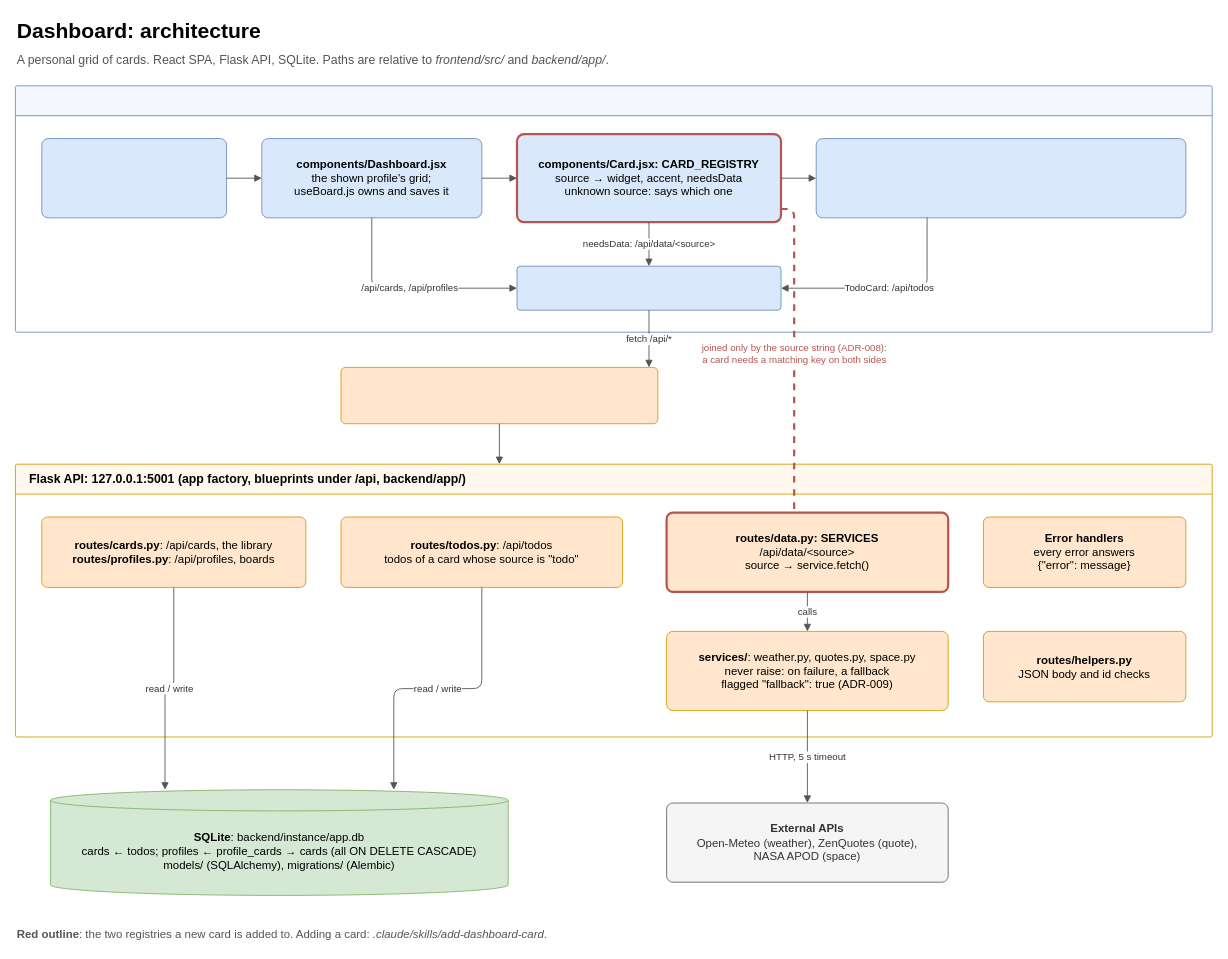
Image size: 1228x959. Some labels were removed from this diagram. Here are the shapes that lost their labels. From the top down, the box of each, then its label:
(41, 138, 227, 218): App.jsx header: profile menu, Edit board, library drawer, clock
(815, 138, 1186, 218): components/cards/ WeatherCard, QuoteCard, SpaceCard, TodoCard, PlaceholderCard
(15, 85, 1212, 332): Browser: http://localhost:5173 (React SPA, frontend/src/)
(516, 265, 781, 310): api.js : the only module that calls fetch()
(340, 367, 658, 424): Vite dev server :5173 proxies /api → 127.0.0.1:5001
